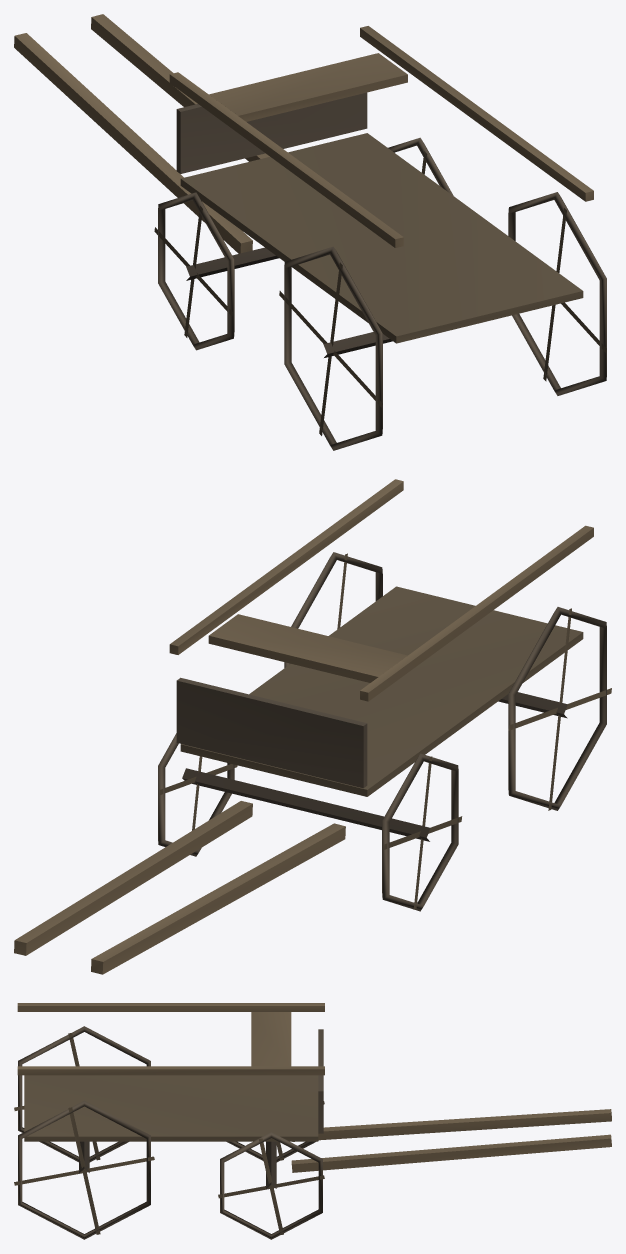
Rendered from m01_prop_horse_cart_lod1.glb.
3 renders of one model, top to bottom at view 1: azimuth 30°, elevation 25°; view 2: azimuth 150°, elevation 25°; view 3: azimuth 270°, elevation 25°, orthographic. The views are drawn at different scales.
Parts seen in each view (by area): view 1: horse_cart; view 2: horse_cart; view 3: horse_cart.
Boxes of the visible parts, left/top/right/bottom form: horse_cart: left=14, top=14, right=606, bottom=450; horse_cart: left=14, top=479, right=611, bottom=974; horse_cart: left=14, top=1003, right=611, bottom=1239.
Size of the model in its own units: 1.44 by 1.38 by 4.48.
